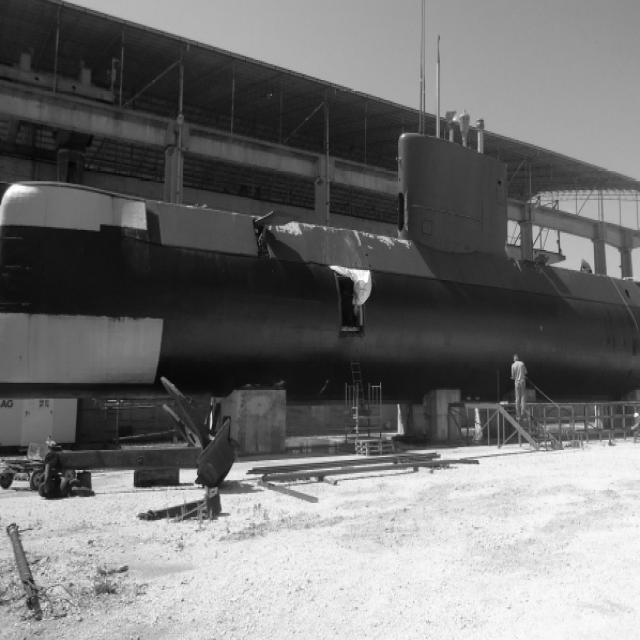submarine: (1, 33, 640, 398)
